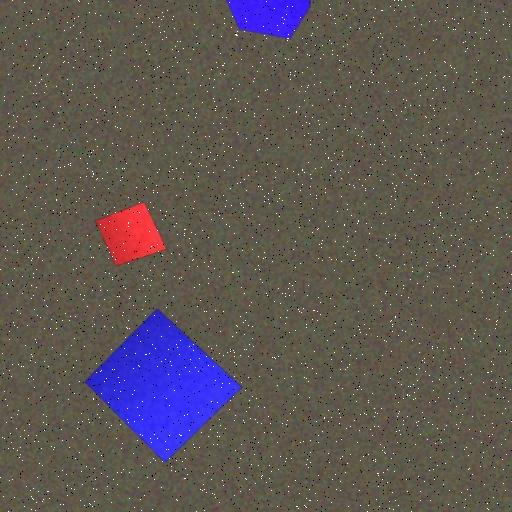BLUE_SQUARE: (84, 307, 243, 463)
RED_SQUARE: (94, 202, 168, 267)
